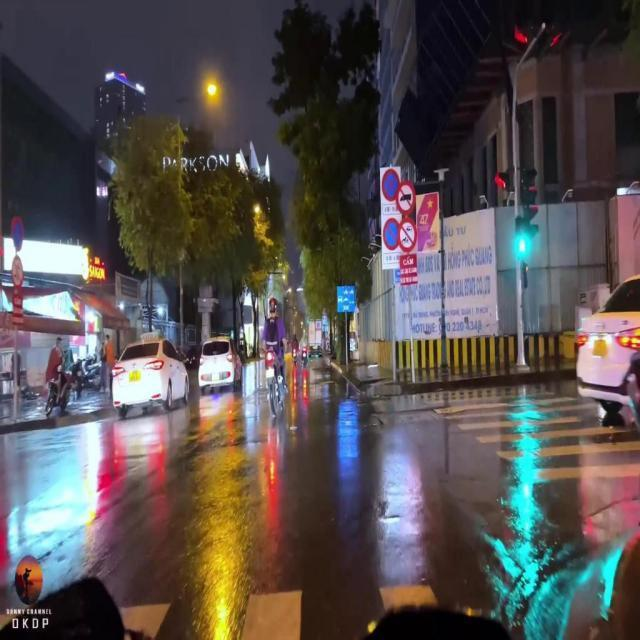106-cam-oto-tai: (396, 180, 416, 216)
130-cam-dung-va-do-xe: (380, 168, 402, 201)
131a-cam-do-xe: (384, 216, 401, 252)
